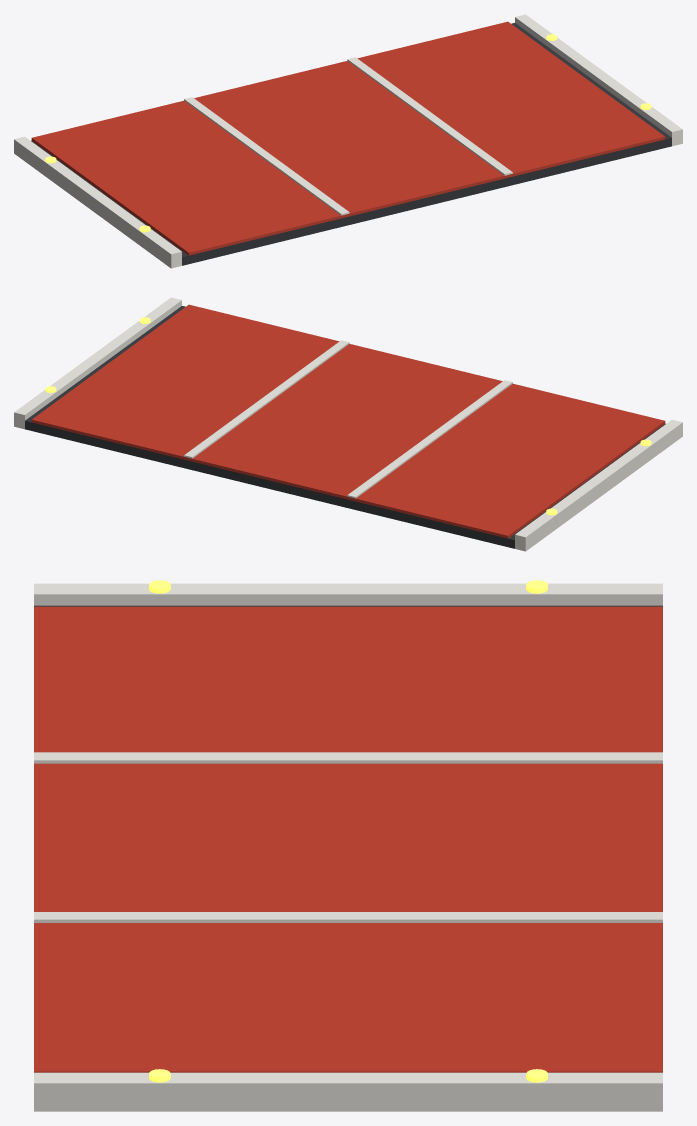
Rendered from track-tile-lod0.glb.
The picture shows the model from 3 angles, top to bottom: view 1: azimuth 30°, elevation 25°; view 2: azimuth 150°, elevation 25°; view 3: azimuth 270°, elevation 25°; orthographic projection. The views are drawn at different scales.
Visible parts, largest first — view 1: track-tile; view 2: track-tile; view 3: track-tile.
Part boxes in pixels (x1,y1,x2,y2): track-tile: (14,14,682,268); track-tile: (14,297,682,551); track-tile: (34,580,662,1111).
Bounding box in the file's own units: 3.76 × 0.115 × 2.
